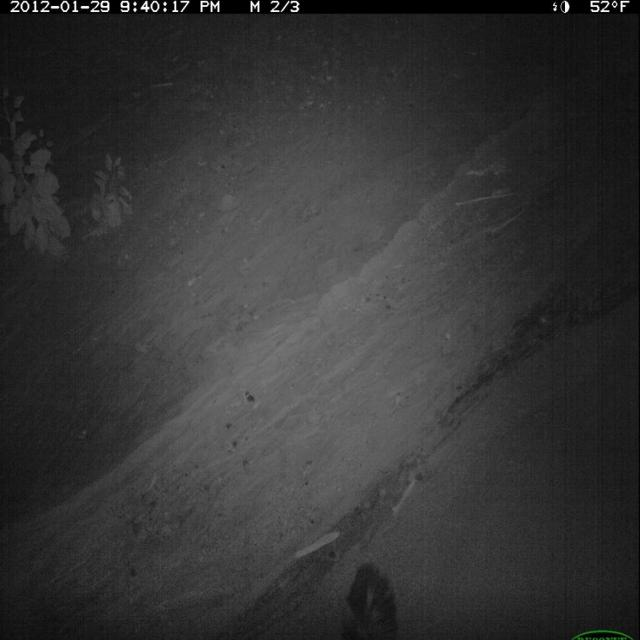skunk: (343, 560, 402, 640)
